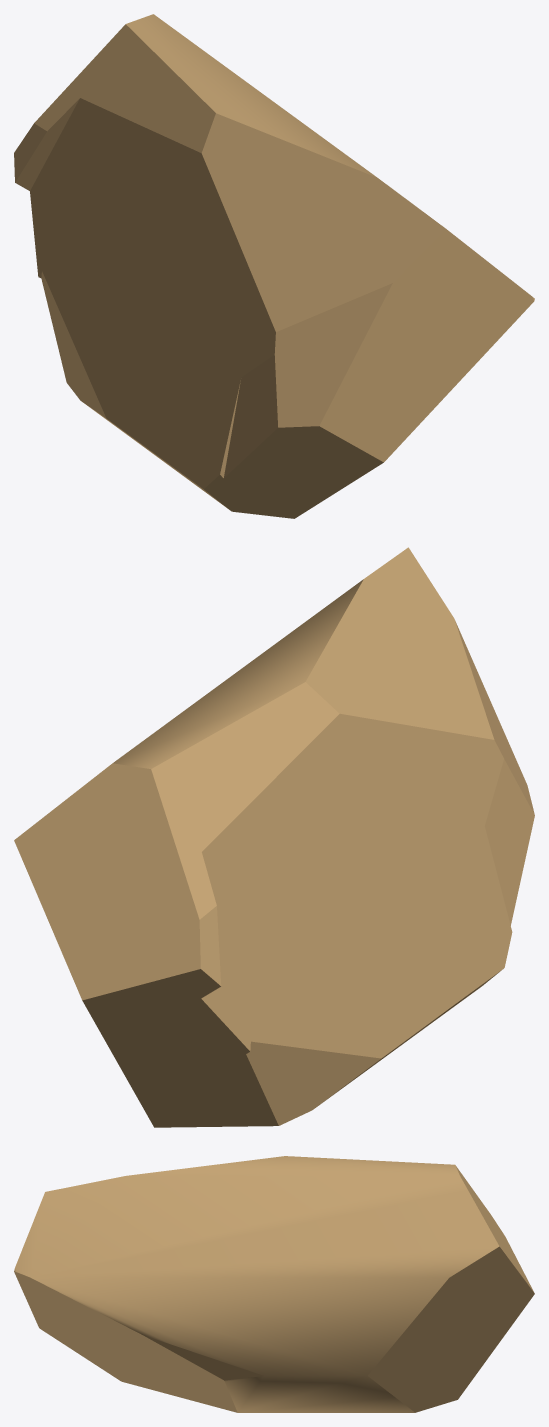
File: BrokenRuin_pillarMid_04.fbx
3 renders of one model, top to bottom at view 1: azimuth 30°, elevation 25°; view 2: azimuth 150°, elevation 25°; view 3: azimuth 270°, elevation 25°, orthographic. The views are drawn at different scales.
Visible parts, largest first — view 1: pillarMid_04; view 2: pillarMid_04; view 3: pillarMid_04.
Boxes of the visible parts, x1,y1,x2,y2 form: pillarMid_04: [14, 14, 534, 518]; pillarMid_04: [14, 547, 534, 1127]; pillarMid_04: [14, 1156, 534, 1412].
Size of the model in its own units: 89.87 by 114 by 227.
